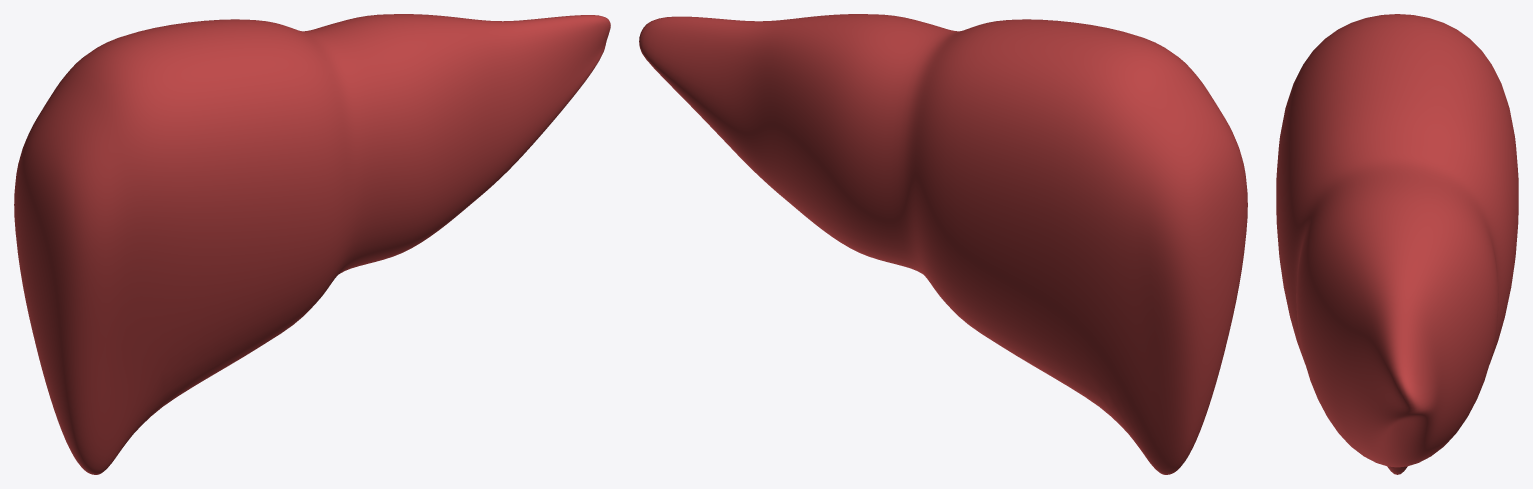
The model's file is human_liver.glb.
The picture shows the model from 3 angles, left to right: view 1: azimuth 30°, elevation 25°; view 2: azimuth 150°, elevation 25°; view 3: azimuth 270°, elevation 25°; orthographic projection. The views are drawn at different scales.
Visible parts, largest first — view 1: pCube1; view 2: pCube1; view 3: pCube1.
Part boxes in pixels (left/top/right/bottom): pCube1: left=14, top=14, right=610, bottom=474; pCube1: left=639, top=14, right=1247, bottom=474; pCube1: left=1276, top=14, right=1518, bottom=474.
Bounding box in the file's own units: 4.18 × 2.88 × 1.32.
